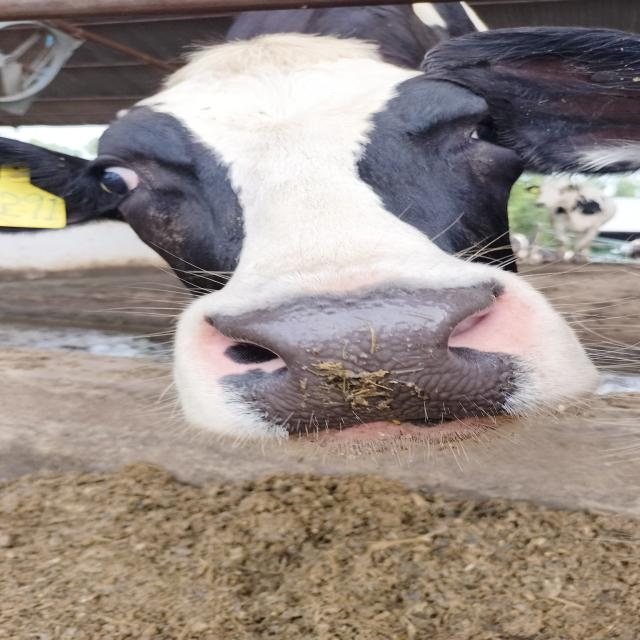muzzles: (177, 273, 548, 437)
